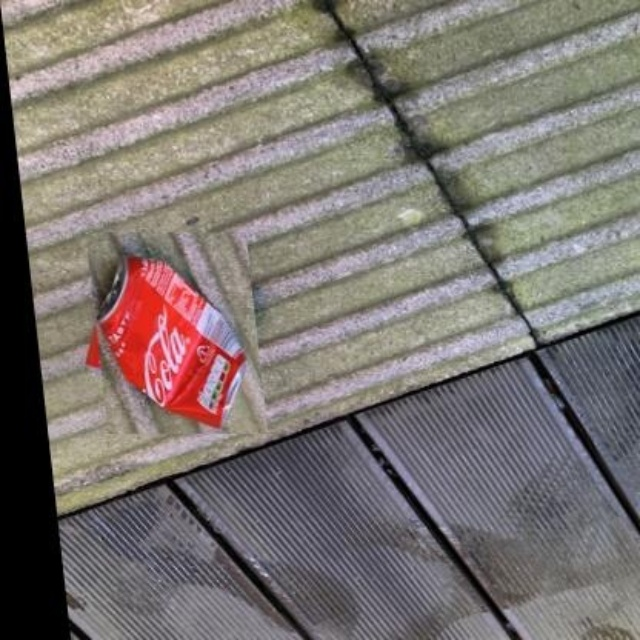trash: (86, 254, 245, 426)
